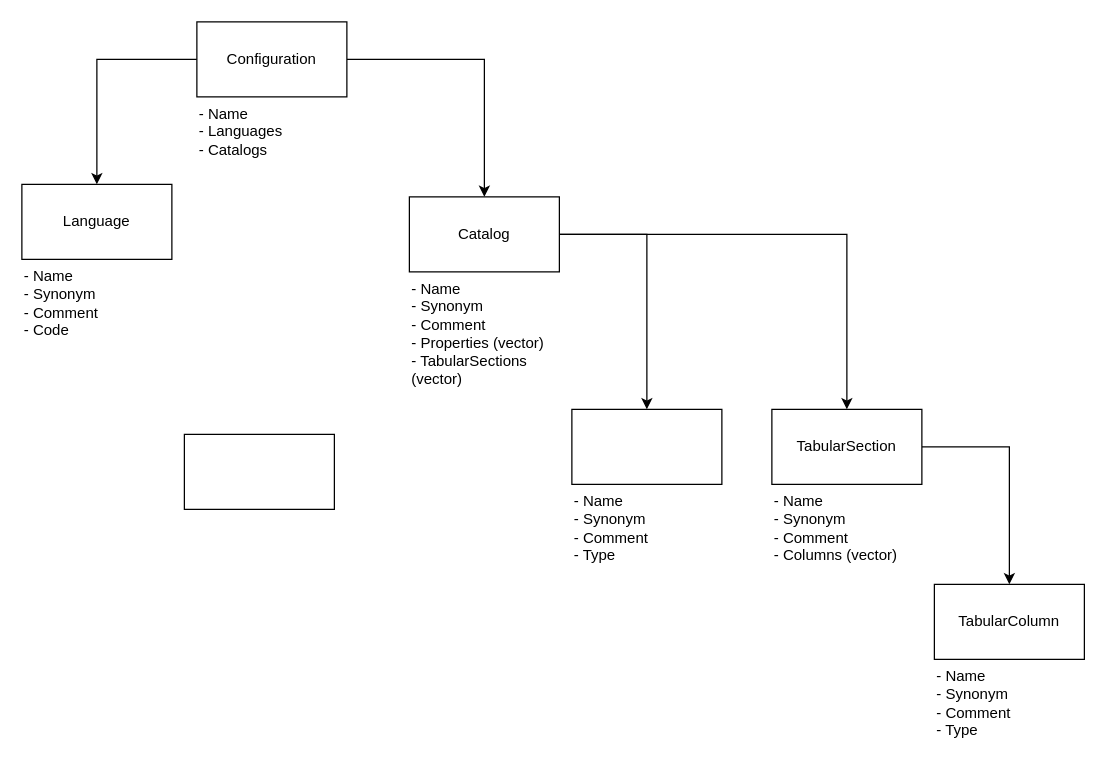
This 1106x769 diagram has some shape labels left out. Here are the shapes that lost their labels. From the top down, the centre of each, then its label:
At (646,446): "Property".
At (258,471): "Type".
